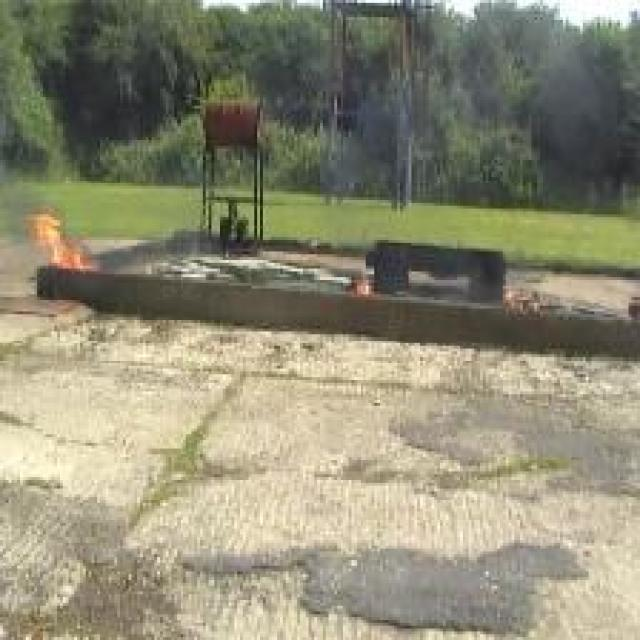Fire: (34, 216, 100, 270)
